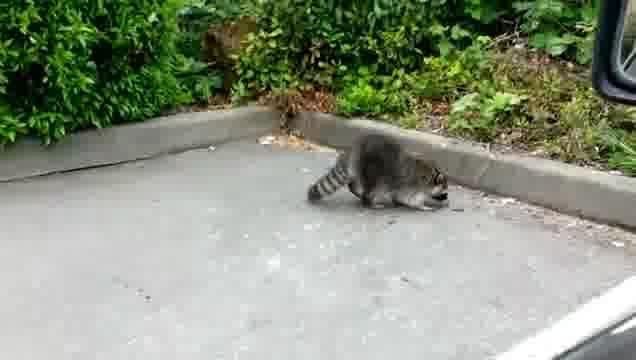raccoon: (307, 132, 452, 214)
